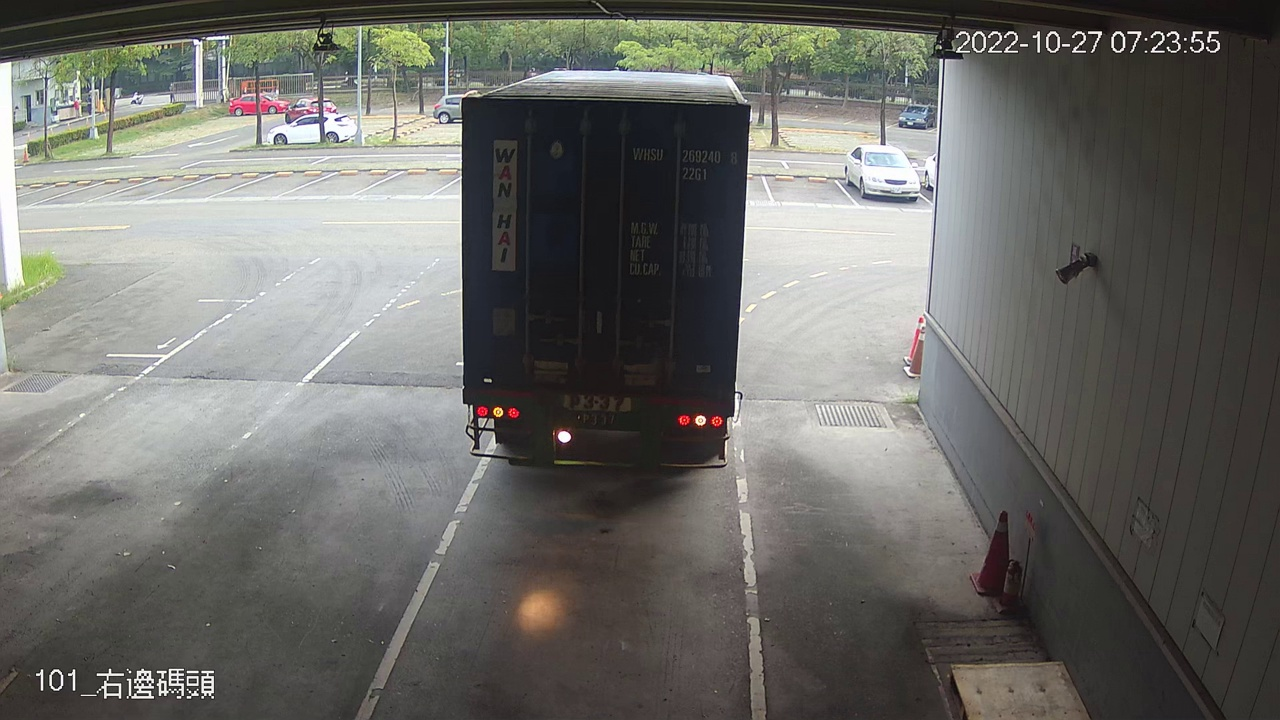container: (628, 142, 742, 183)
